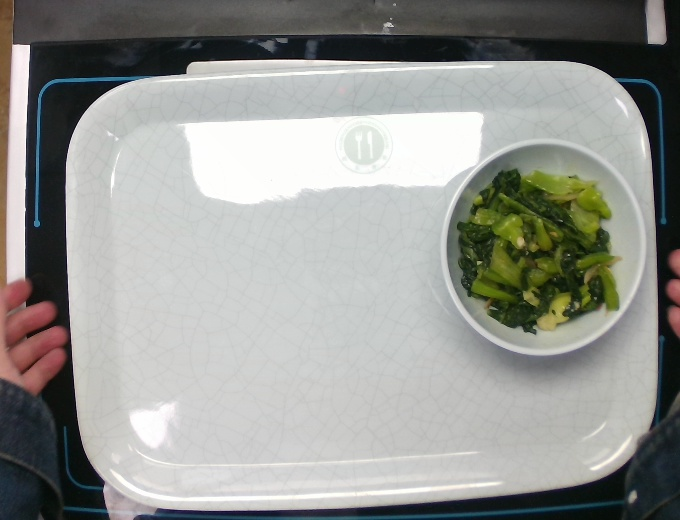JYsf-Fan_Wan: (425, 124, 658, 360)
